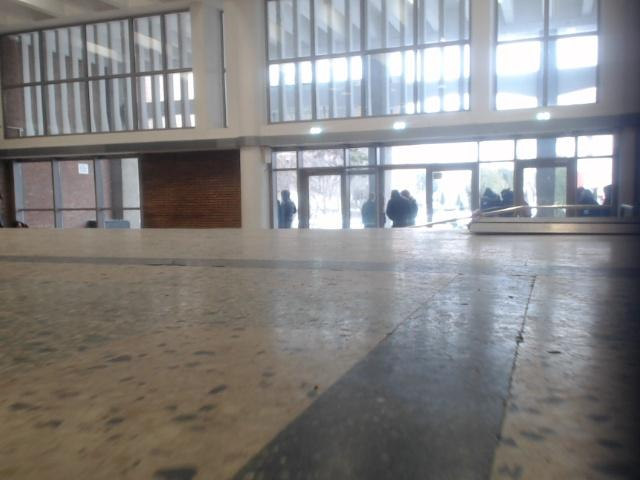rampDown: (471, 217, 639, 234)
ramps-railing: (492, 202, 616, 215)
